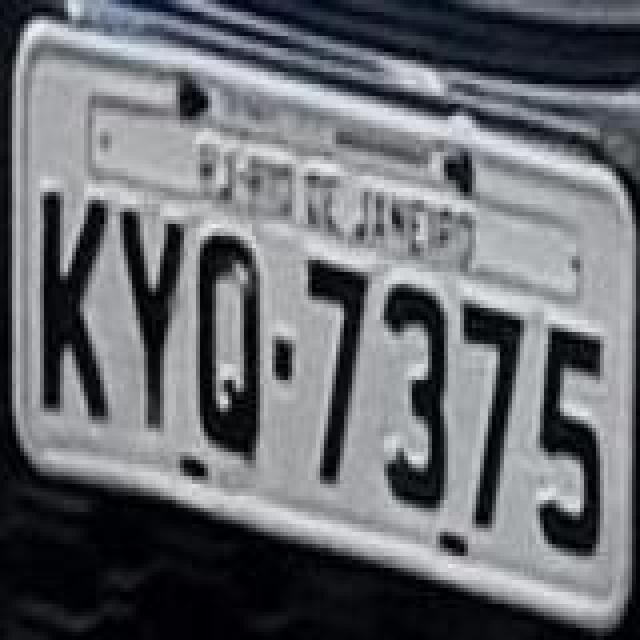3: (384, 280, 448, 512)
5: (534, 322, 602, 558)
7: (304, 260, 368, 492), (460, 300, 524, 532)
K: (38, 192, 106, 424)
Q: (196, 236, 260, 468)
Y: (118, 208, 186, 432)
